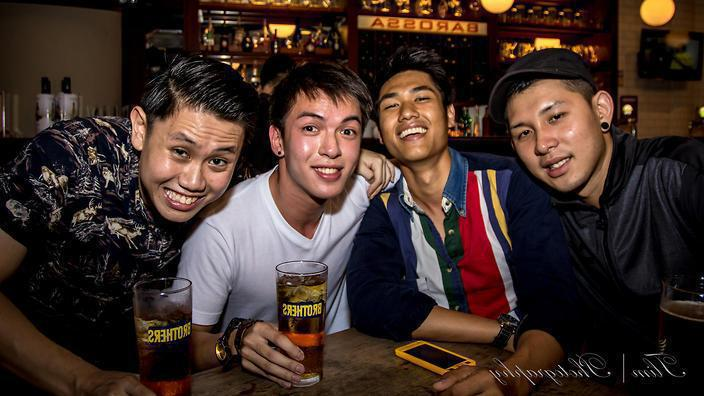Drunk: (510, 86, 601, 190), (150, 114, 233, 219), (292, 97, 360, 197), (380, 79, 447, 156)
